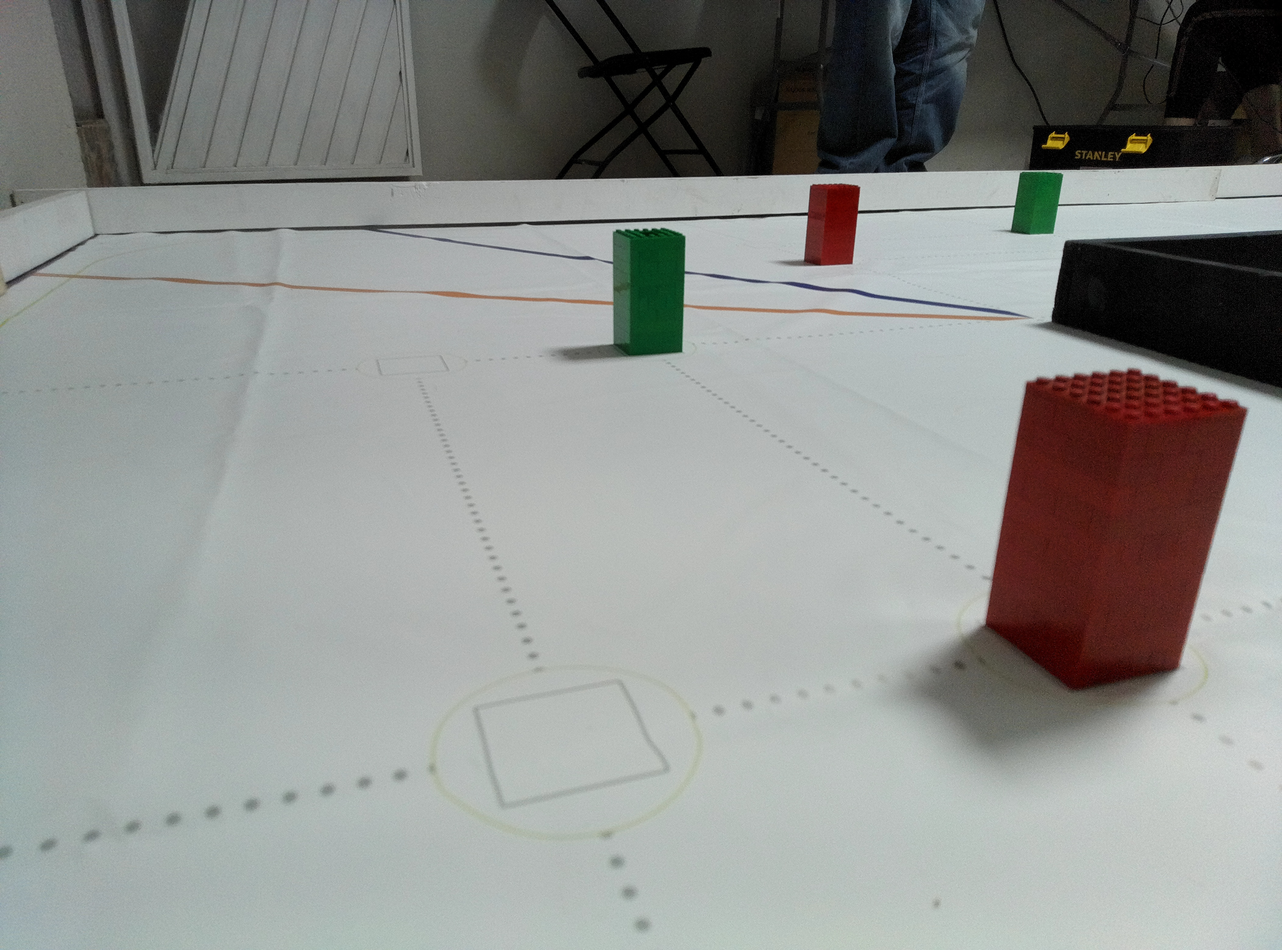greenbox: (612, 228, 687, 357), (1009, 170, 1064, 236)
redbox: (980, 366, 1252, 694), (802, 183, 862, 267)
